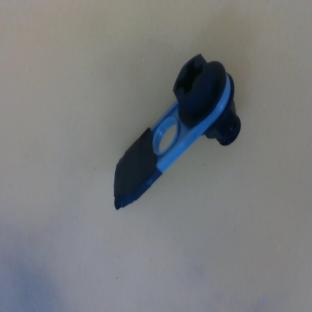part_1_bad: (70, 46, 260, 210)
